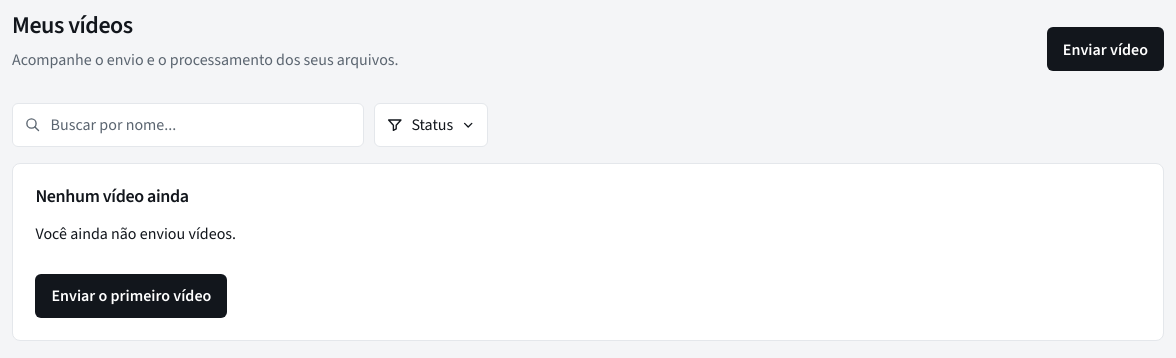
Test: VideoList query controls › distinguishes a filtered empty state and retries with the active criteria
In the search field: coordinates (188, 125) [12,103,364,147], type "inexistente"
Wait 300 ms
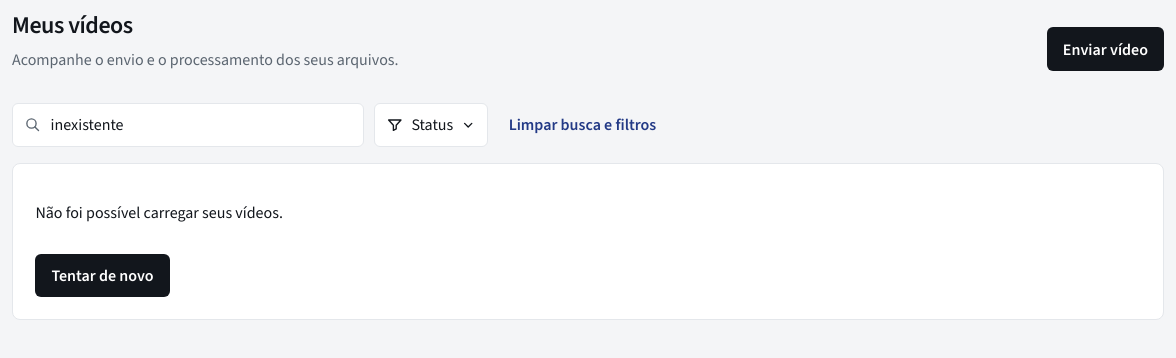
Expected: the message shows "Não foi possível carregar seus vídeos.", [35,202,283,223]
Click the button "Tentar de novo": coordinates (102, 275) [35,254,170,297]
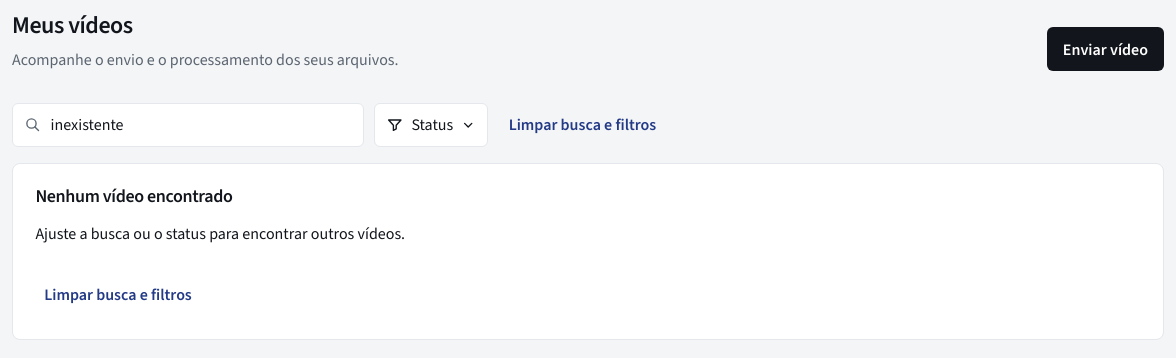
Expected: the heading "Nenhum vídeo ainda" is not shown
Expected: the 1st button "Limpar busca e filtros" is shown, [500,103,665,147]
Expected: the heading "Nenhum vídeo encontrado" is shown, [35,184,232,208]
